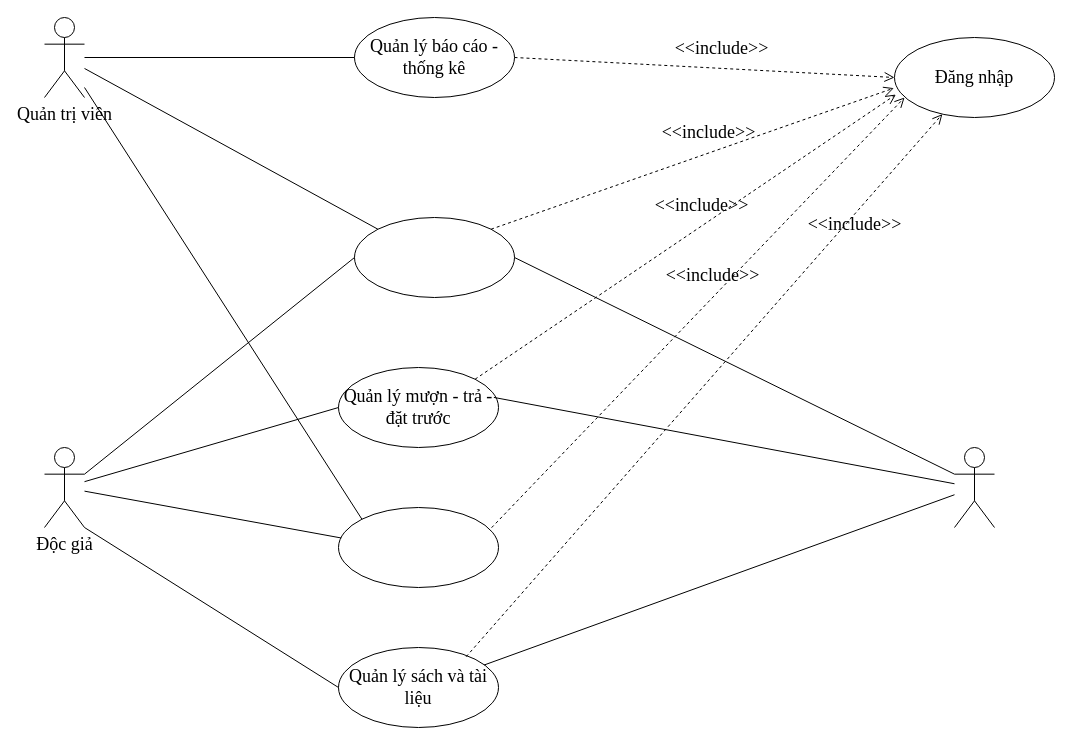
The diagram is 1072 pixels wide and 745 high, and some of its shapes have lost their labels. Here are the shapes that lost their labels. From the top down, the centre of each, then its label:
At pixel 434 257: "Quản lý tài khoản".
At pixel 974 487: "Thủ thư".
At pixel 418 547: "Quản lý thông báo phản hồi".
